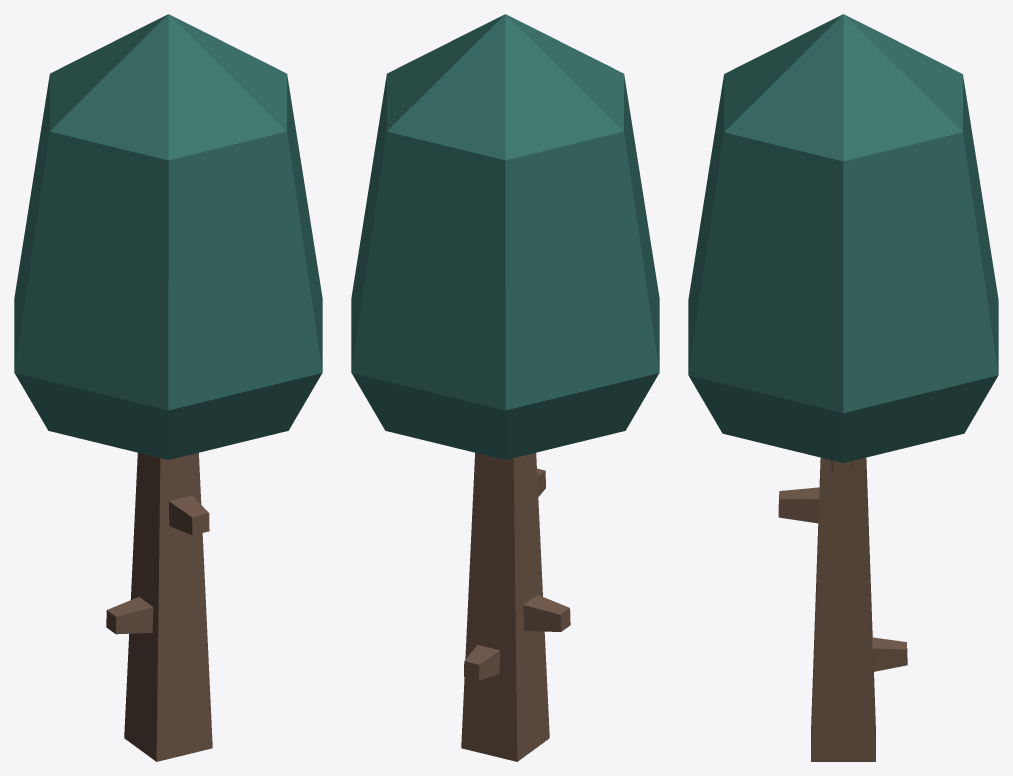
The model's file is tree.glb.
3 views of the same model, side by side, from view 1: azimuth 30°, elevation 25°; view 2: azimuth 150°, elevation 25°; view 3: azimuth 270°, elevation 25° (orthographic).
Visible parts, largest first — view 1: tree_default; view 2: tree_default; view 3: tree_default.
Boxes of the visible parts, <box> form: tree_default: <box>14,14,322,761</box>; tree_default: <box>351,14,659,761</box>; tree_default: <box>688,14,998,761</box>.
Size of the model in its own units: 0.755 by 1.71 by 0.6538.
